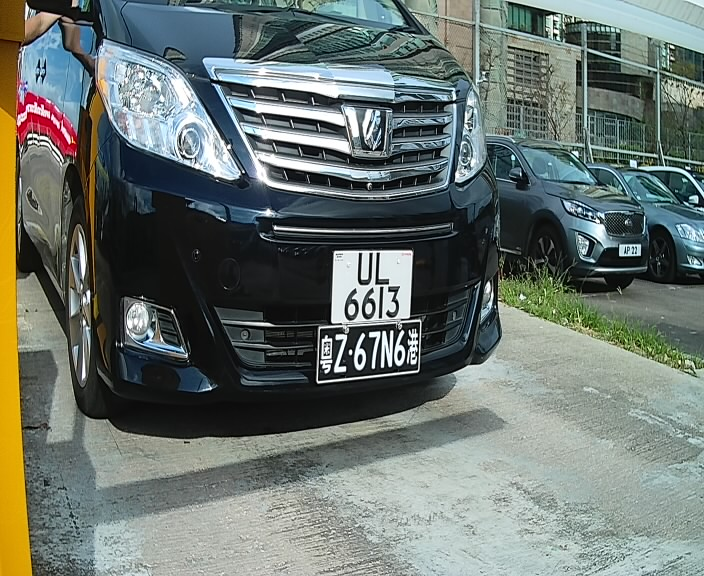License Plate: (325, 241, 418, 332)
